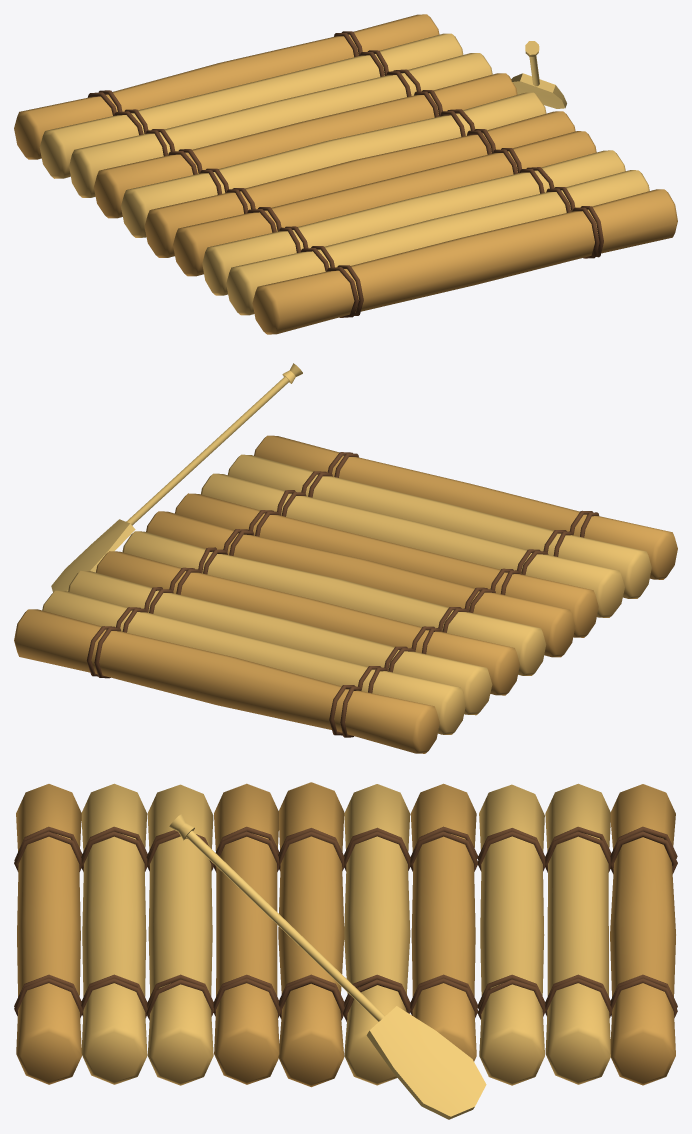
File: Raft.fbx
3 renders of one model, top to bottom at view 1: azimuth 30°, elevation 25°; view 2: azimuth 150°, elevation 25°; view 3: azimuth 270°, elevation 25°, orthographic. The views are drawn at different scales.
Parts seen in each view (by area): view 1: Raft, Raft_Pedal; view 2: Raft, Raft_Pedal; view 3: Raft, Raft_Pedal.
Boxes of the visible parts, x1,y1,x2,y2 form: Raft: [14, 14, 677, 334]; Raft_Pedal: [511, 41, 566, 108]; Raft: [14, 435, 677, 753]; Raft_Pedal: [51, 363, 302, 592]; Raft: [14, 782, 677, 1087]; Raft_Pedal: [169, 814, 486, 1119].
Bounding box in the file's own units: 2.82 × 1.06 × 2.84.
